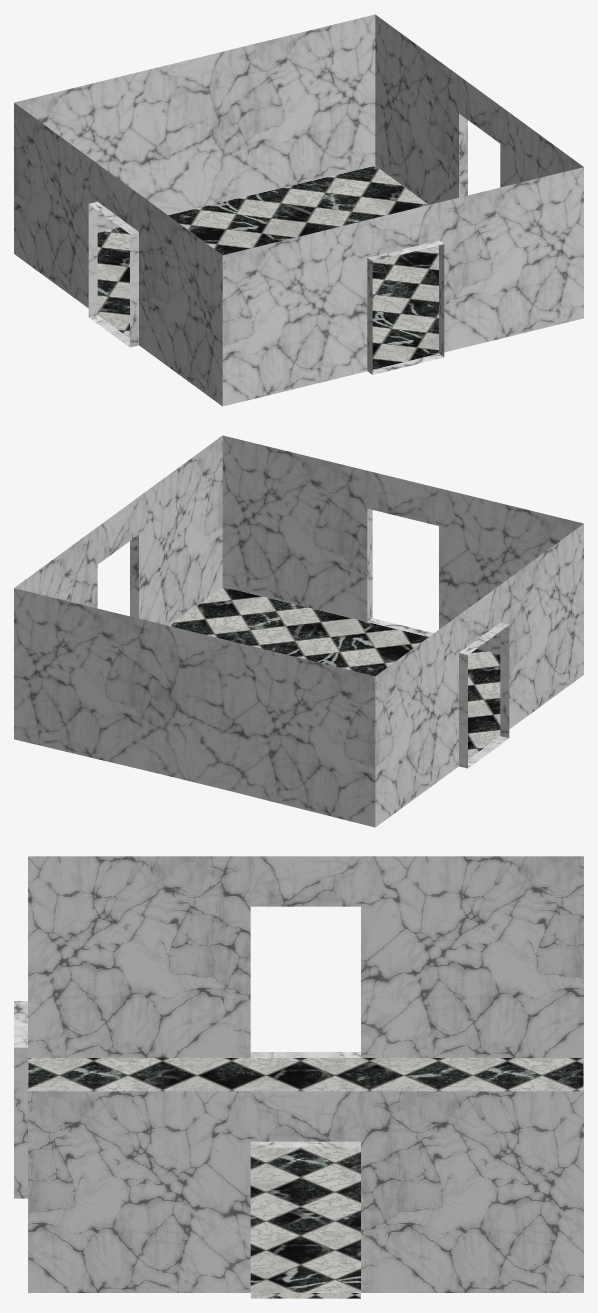
The model's file is room3.fbx.
3 views of the same model, one above another, from view 1: azimuth 30°, elevation 25°; view 2: azimuth 150°, elevation 25°; view 3: azimuth 270°, elevation 25° (orthographic). The views are drawn at different scales.
Visible parts, largest first — view 1: Room3; view 2: Room3; view 3: Room3.
Part boxes in pixels (x1,y1,x2,y2): Room3: [14, 14, 583, 406]; Room3: [14, 435, 583, 827]; Room3: [14, 856, 583, 1298].
Size of the model in its own units: 640 by 244 by 625.
